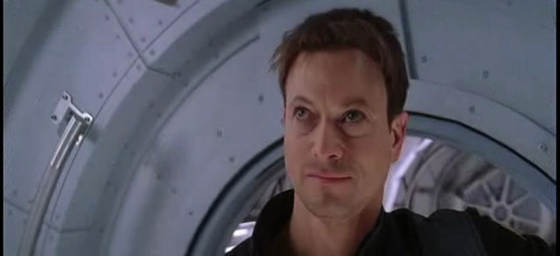cu: (1, 1, 560, 256)
face: (283, 66, 386, 220)
person: (221, 6, 555, 256)
